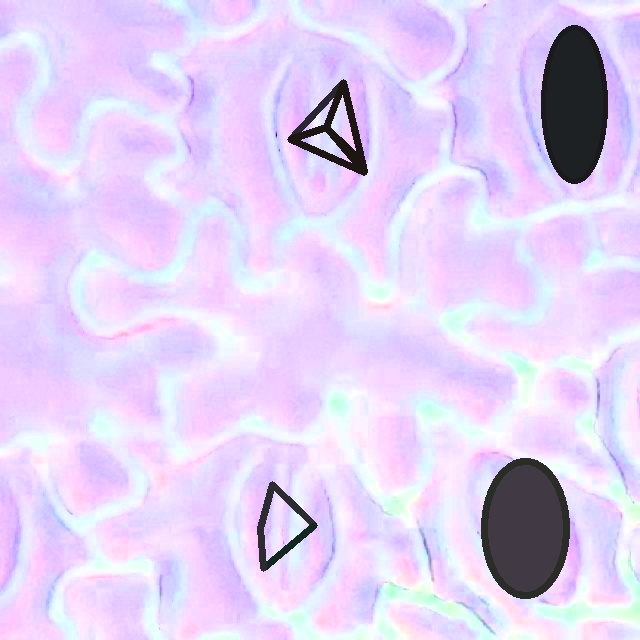close: (287, 80, 364, 174)
open: (481, 458, 569, 598), (542, 26, 607, 183), (258, 481, 316, 571)
